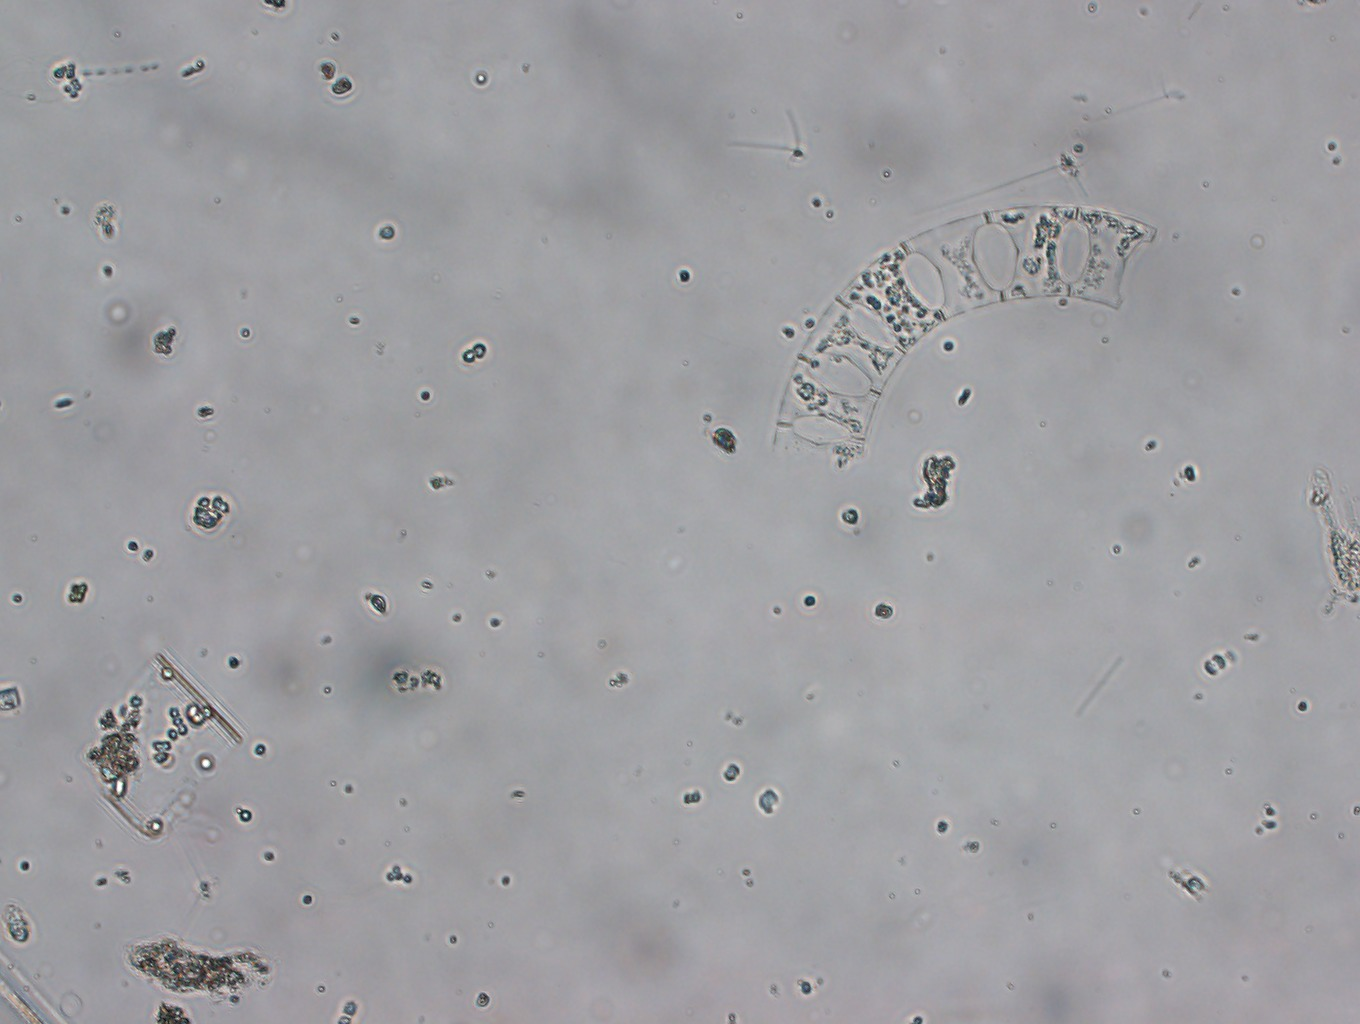eucampia: (764, 189, 1176, 478)
